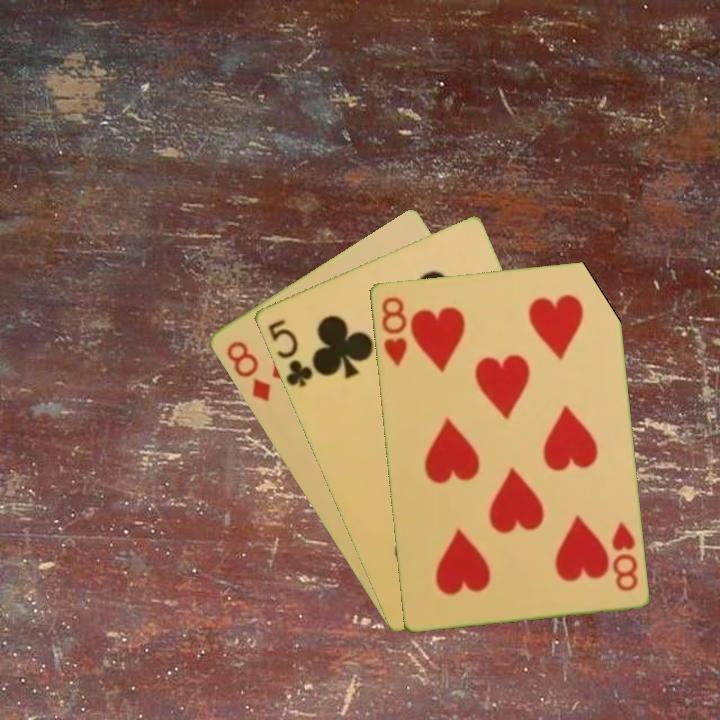5c: (264, 315, 315, 390)
8d: (222, 337, 273, 405)
8h: (607, 517, 640, 594), (377, 293, 410, 369)
